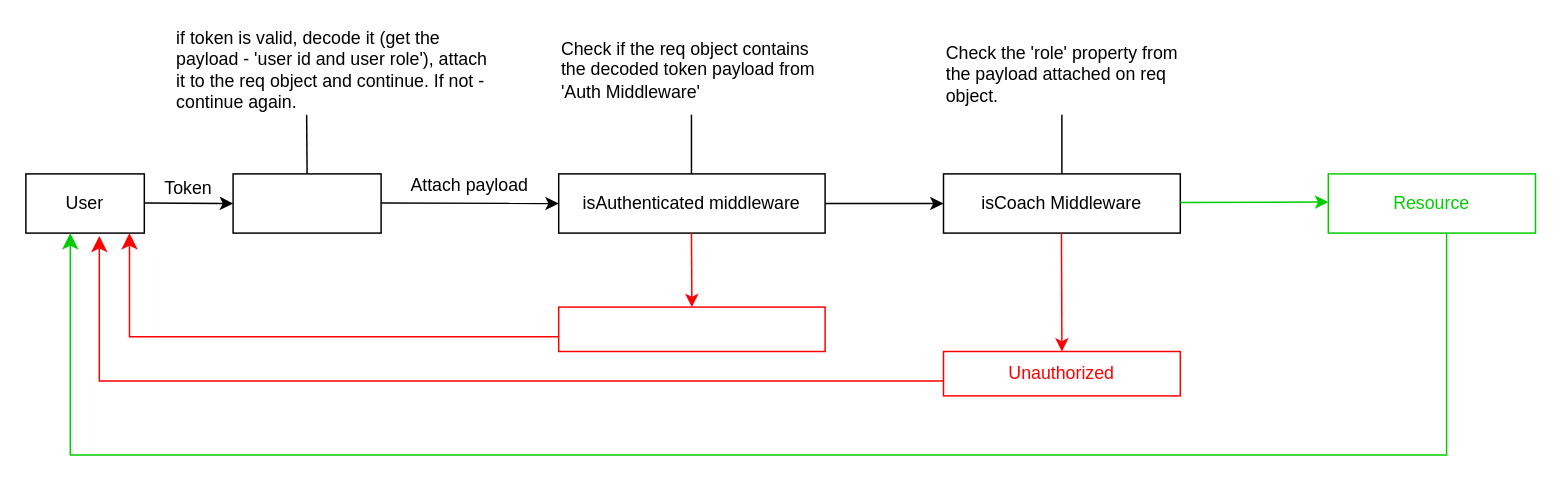
This 1561x496 diagram has some shape labels left out. The shapes that lost their labels are listed below. From the top down, each one's centre as x and y in pixels, then its label:
(306,202): Auth Middleware
(691,329): Unauthenticated
